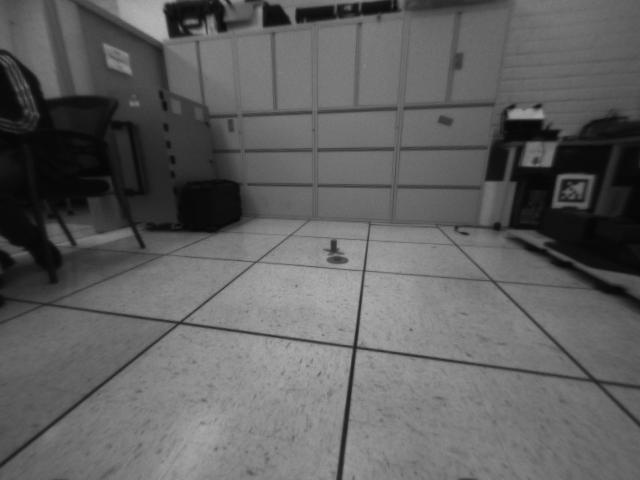X: (323, 239, 344, 255)
